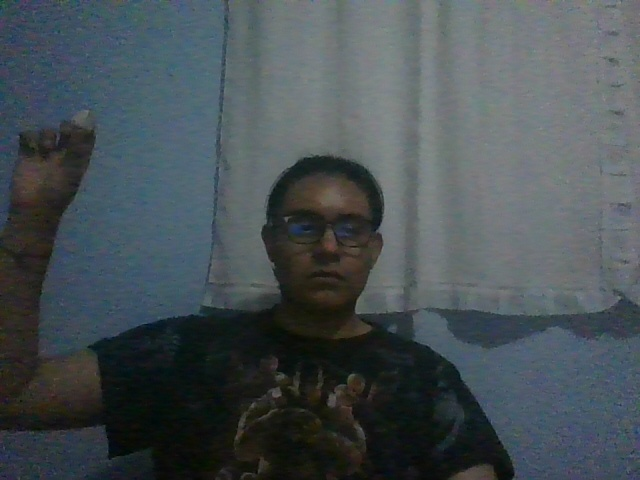goma: (71, 109, 97, 132)
